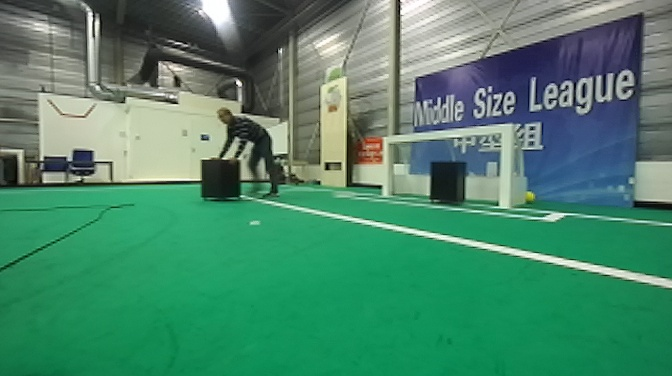ball: (523, 187, 536, 205)
goalpost: (497, 122, 519, 215), (383, 134, 396, 197)
human: (212, 108, 283, 197)
